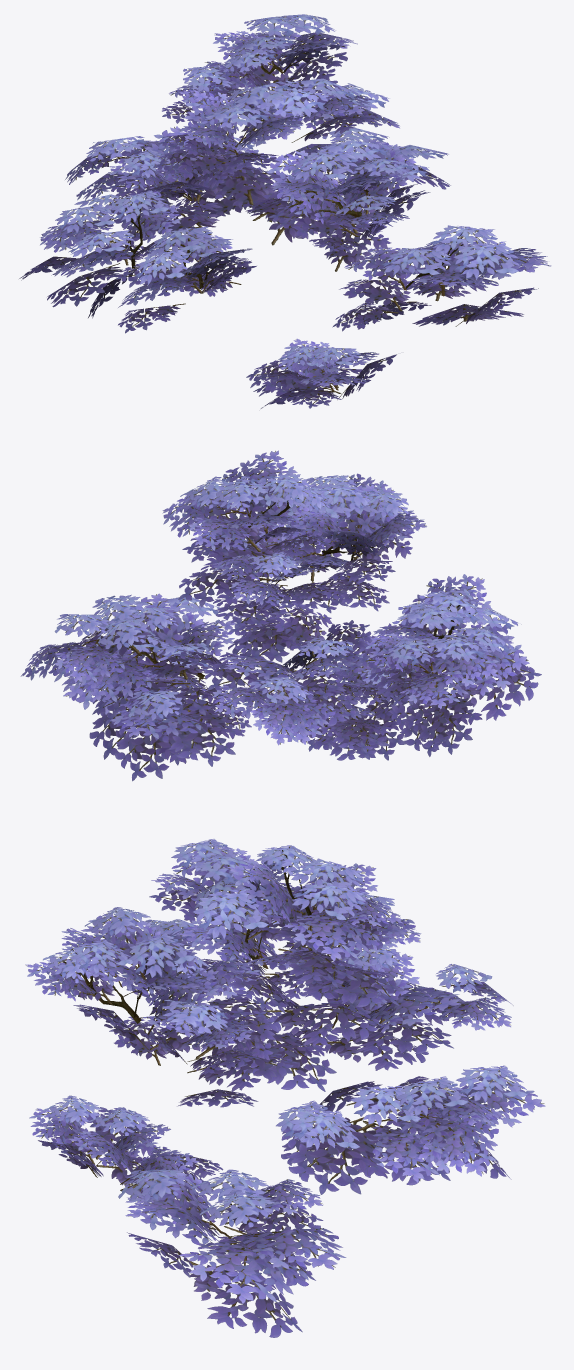
3 renders of one model, top to bottom at view 1: azimuth 30°, elevation 25°; view 2: azimuth 150°, elevation 25°; view 3: azimuth 270°, elevation 25°, orthographic. The views are drawn at different scales.
Visible parts, largest first — view 1: 51001_02; view 2: 51001_02; view 3: 51001_02.
Boxes of the visible parts, x1=… form: 51001_02: x1=19, y1=14, x2=551, y2=408; 51001_02: x1=20, y1=450, x2=541, y2=781; 51001_02: x1=25, y1=839, x2=545, y2=1337.
Bounding box in the file's own units: 1192 × 791 × 951.
